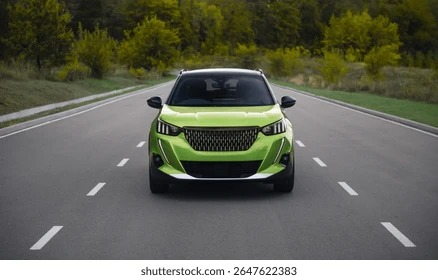car: (145, 67, 298, 193)
